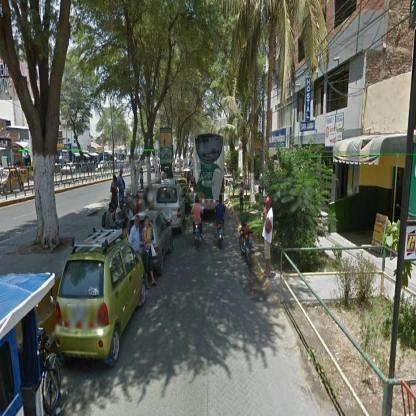Moto: (239, 221, 254, 268), (192, 195, 203, 244), (215, 196, 226, 244)
Peaton: (143, 218, 157, 289), (263, 193, 273, 282), (111, 177, 119, 225), (131, 217, 142, 251), (118, 167, 126, 207), (124, 218, 130, 243), (240, 181, 244, 213), (141, 168, 144, 190)
Pista: (59, 198, 334, 405), (1, 175, 132, 245)
Vehiculo: (57, 231, 144, 370), (1, 271, 63, 415), (194, 135, 224, 221), (135, 212, 174, 275), (155, 184, 186, 239), (2, 170, 23, 195), (179, 184, 190, 205), (182, 168, 191, 191)
